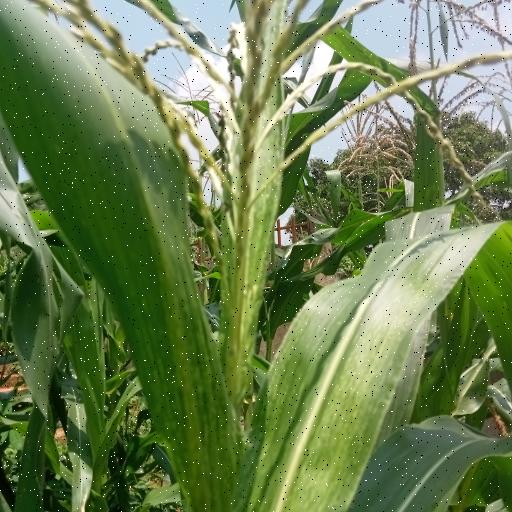Corn_Streak: (10, 0, 250, 498), (250, 221, 512, 509)
